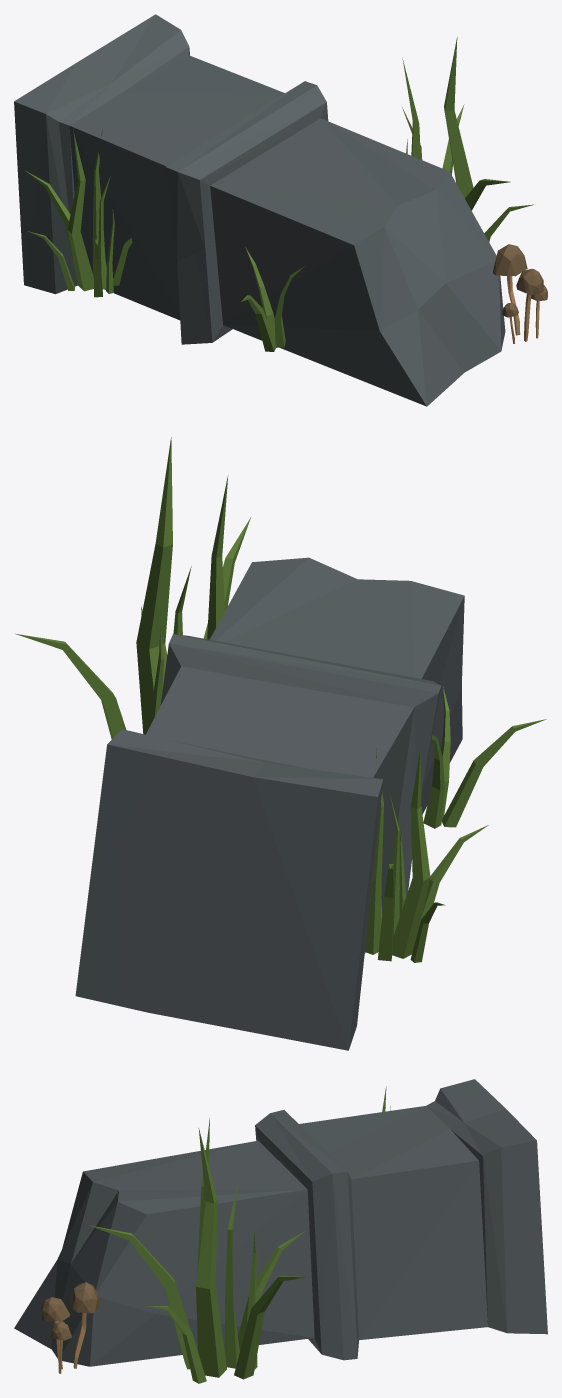
The model's file is Ruins_09.fbx.
3 renders of one model, top to bottom at view 1: azimuth 30°, elevation 25°; view 2: azimuth 150°, elevation 25°; view 3: azimuth 270°, elevation 25°, orthographic. The views are drawn at different scales.
Parts seen in each view (by area): view 1: Ruins_09; view 2: Ruins_09; view 3: Ruins_09.
Part boxes in pixels (x1=…): Ruins_09: x1=14, y1=14, x2=547, y2=406; Ruins_09: x1=15, y1=437, x2=546, y2=1050; Ruins_09: x1=14, y1=1079, x2=547, y2=1383.
Bounding box in the file's own units: 114 × 82.48 × 142.
